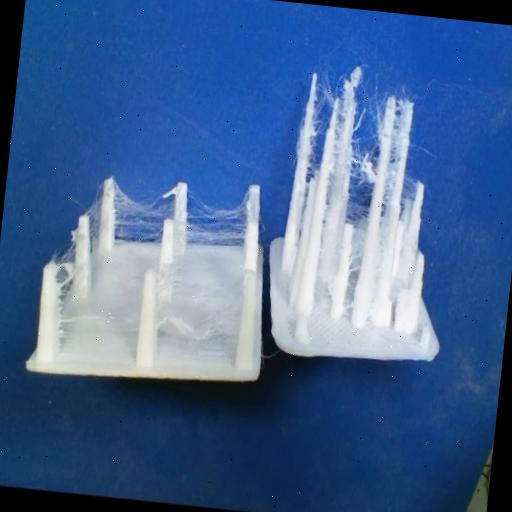stringing: (157, 289, 241, 350), (187, 185, 247, 242), (116, 189, 174, 244), (308, 77, 339, 168), (381, 105, 404, 222), (349, 142, 379, 190), (363, 96, 388, 149), (57, 236, 76, 299), (400, 171, 418, 218), (89, 195, 101, 255), (347, 194, 371, 224)
